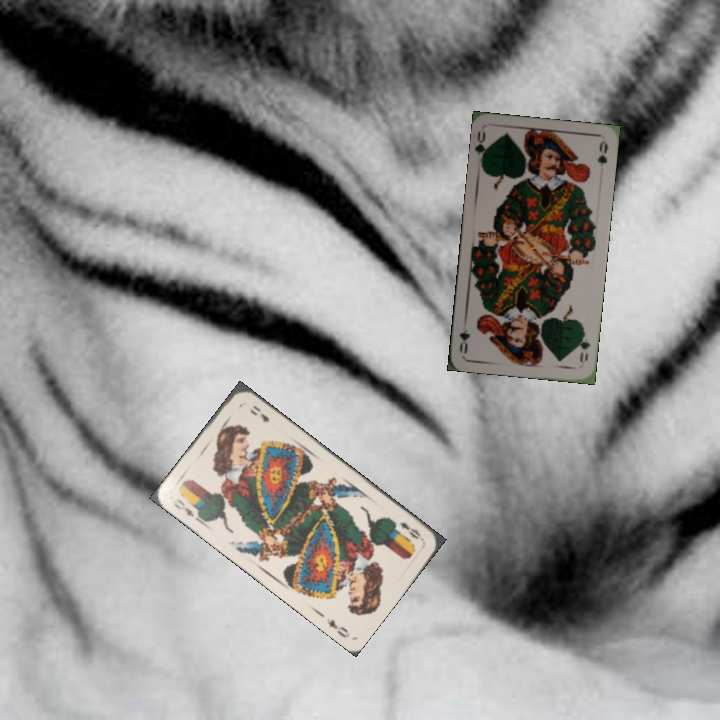EO: (169, 494, 203, 524), (396, 518, 426, 543)
GO: (472, 127, 493, 167), (574, 326, 593, 364)
